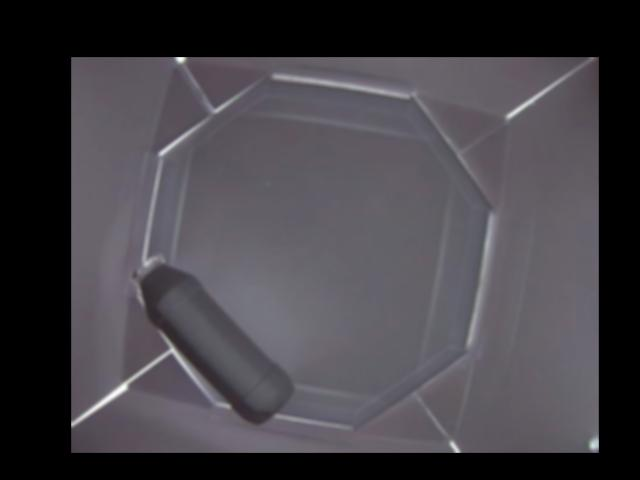Bottle: (128, 254, 292, 423)
